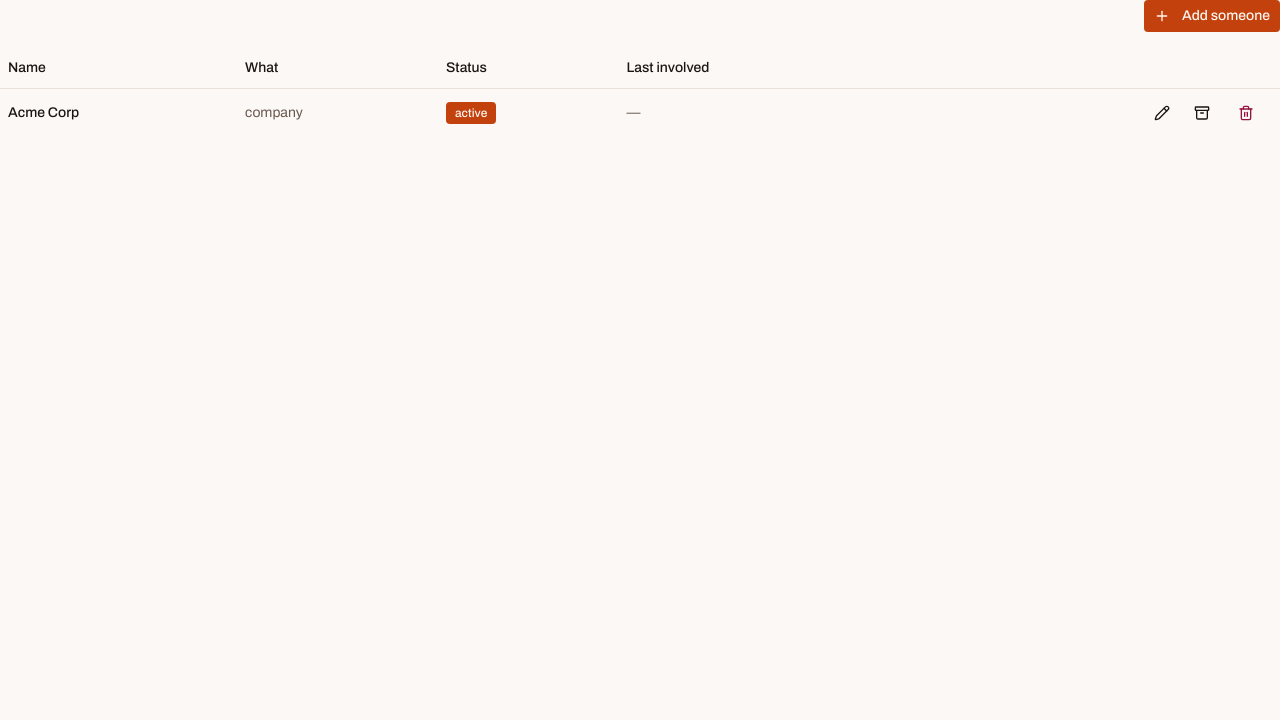
Test: EntitiesView › opens the create dialog from the header "Add someone" button
Click the button "Add someone" at (1212, 16), box x1=1144 y1=0 x2=1279 y2=32
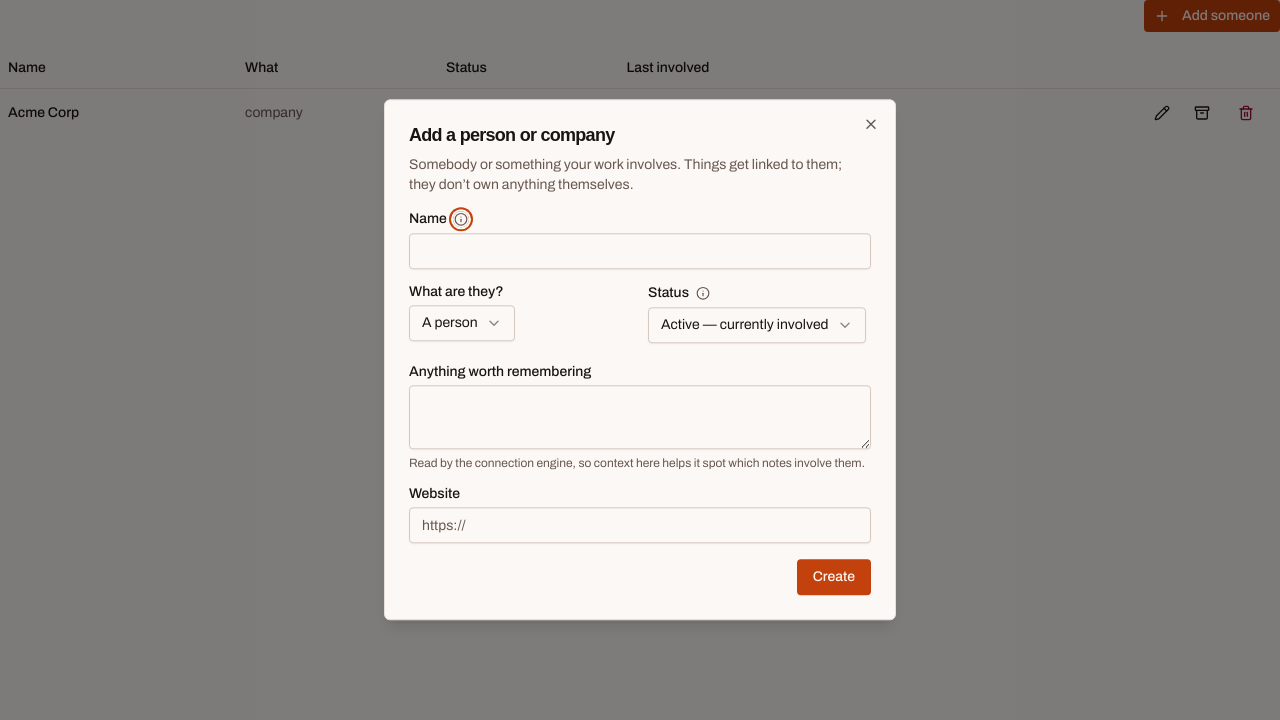
Now the heading "Add a person or company" is shown, box x1=409 y1=125 x2=614 y2=145
